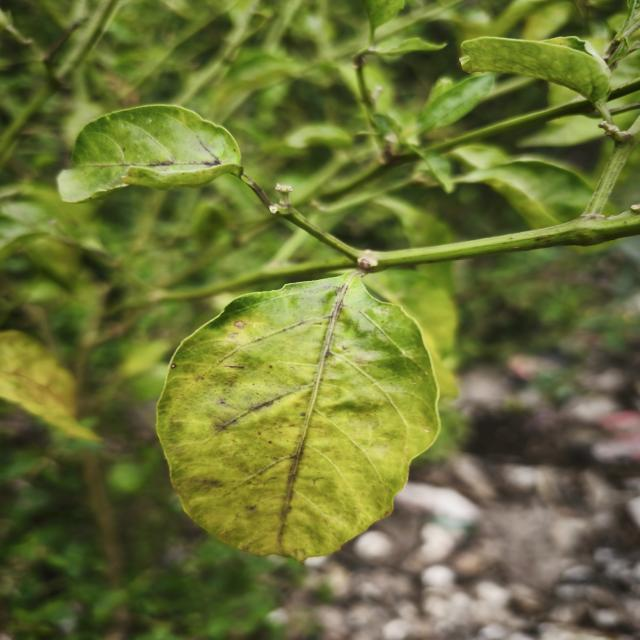Virus Kuning: (154, 269, 443, 562)
